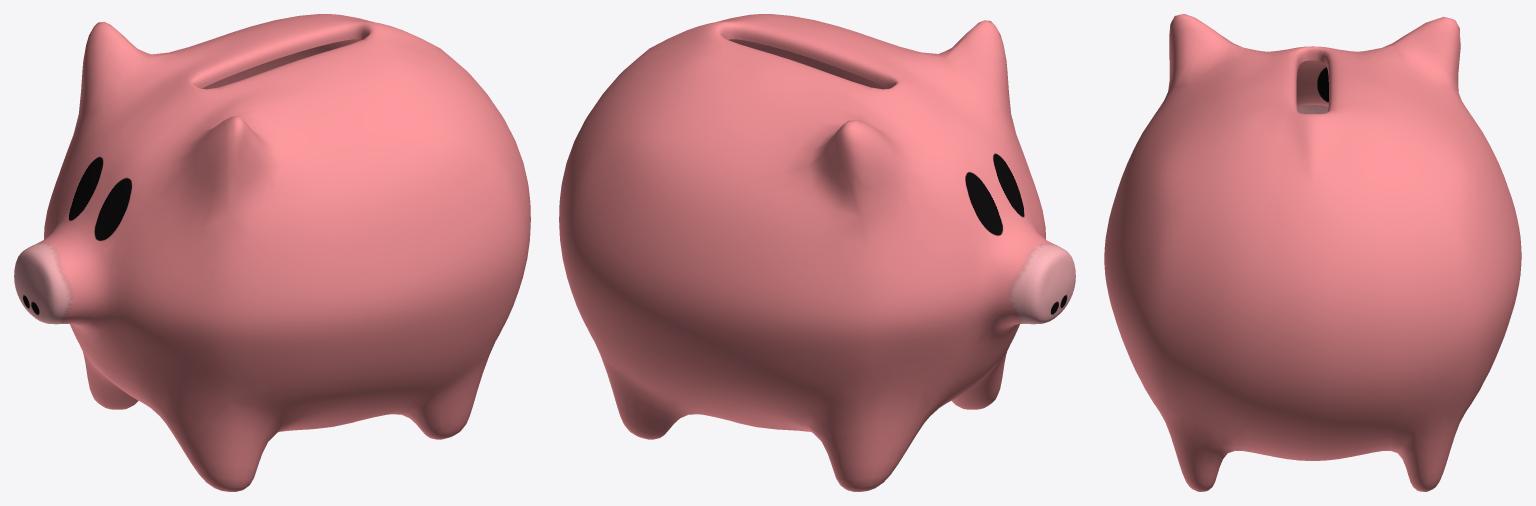
Rendered from alcancia.fbx.
The picture shows the model from 3 angles, left to right: view 1: azimuth 30°, elevation 25°; view 2: azimuth 150°, elevation 25°; view 3: azimuth 270°, elevation 25°; orthographic projection.
Visible parts, largest first — view 1: PiggyBank:Mesh; view 2: PiggyBank:Mesh; view 3: PiggyBank:Mesh.
Boxes of the visible parts, x1,y1,x2,y2 form: PiggyBank:Mesh: [14, 14, 530, 491]; PiggyBank:Mesh: [559, 14, 1075, 491]; PiggyBank:Mesh: [1104, 14, 1521, 491].
Bounding box in the file's own units: 4.65 × 3.58 × 3.62.
